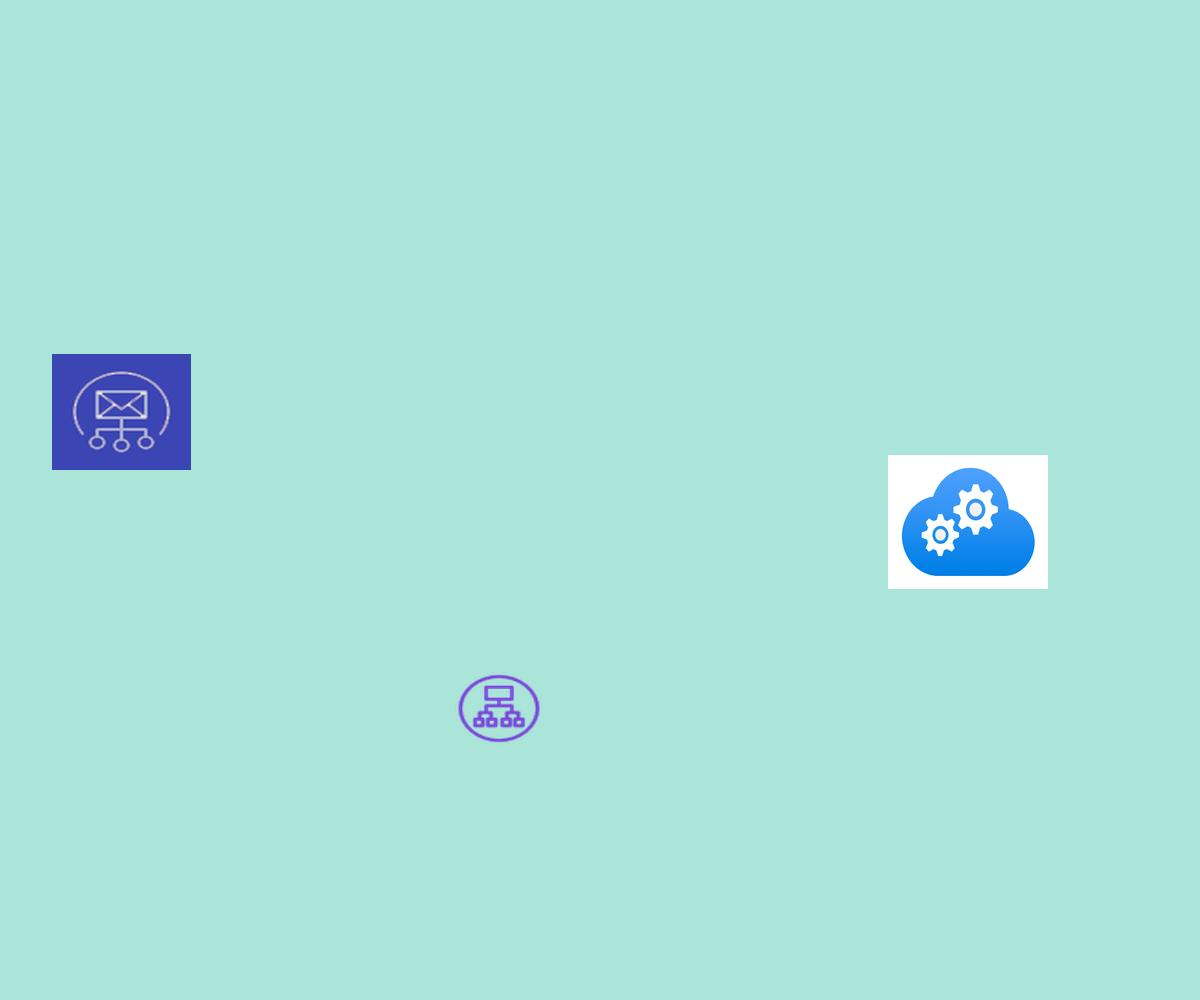AWS-Res_Elastic-Load-Balancing_Application-Load-Balancer: (455, 672, 543, 745)
AWS-Simple-Email-Service: (52, 354, 191, 470)
Azure_cloud_services: (888, 455, 1048, 589)
